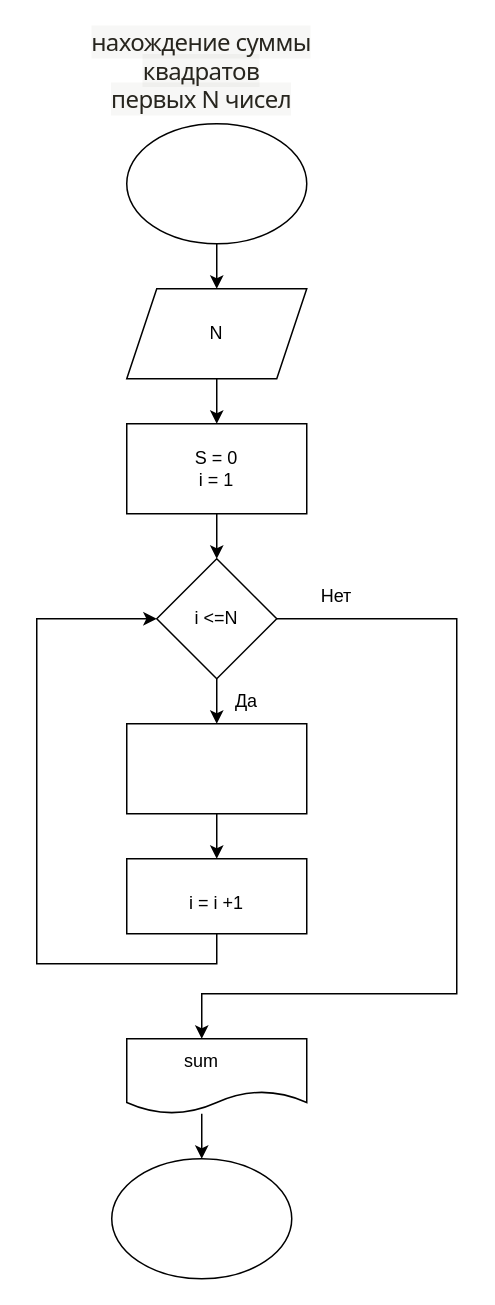
The diagram is 495 pixels wide and 1305 high, and some of its shapes have lost their labels. Each missing label, with the box of its shape:
i 2 sum = sum + i 2: (125, 722, 307, 814)
Конец: (110, 1157, 292, 1279)
Начало: (125, 122, 307, 244)
